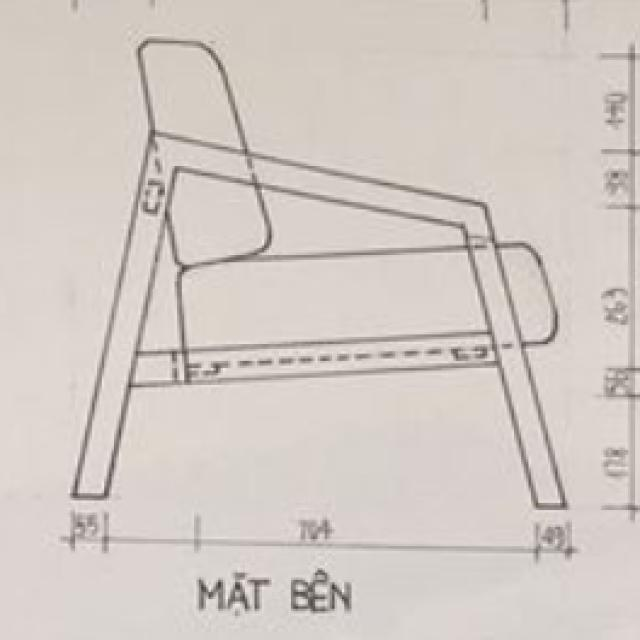Armrest: (91, 126, 531, 374)
Backrest: (134, 34, 276, 271)
Leg_Structure: (59, 320, 586, 520)
Seat: (173, 238, 563, 383)
